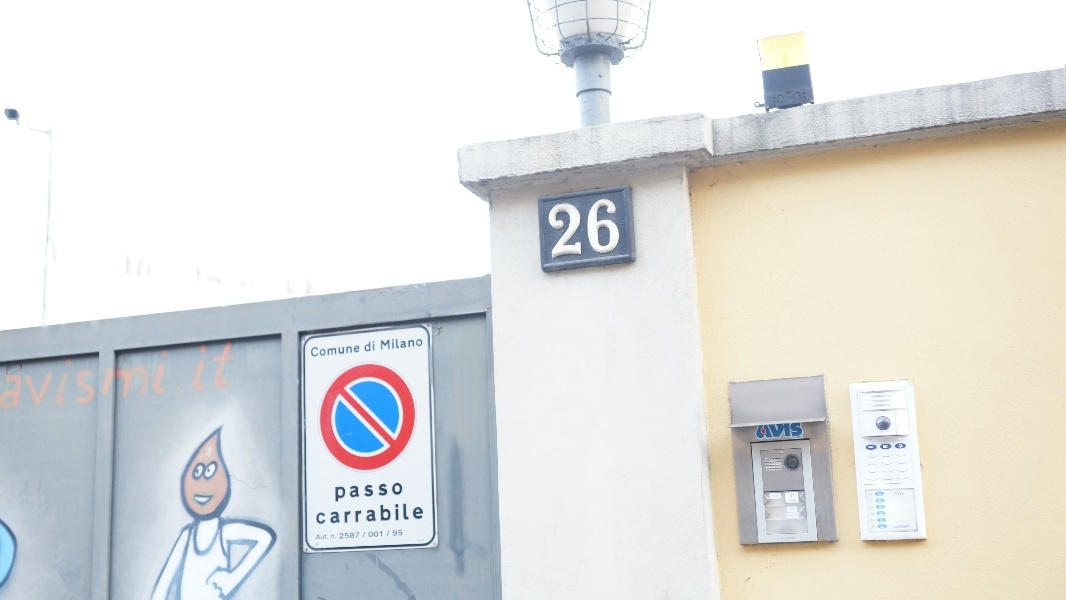text: (17, 338, 32, 413), (33, 338, 48, 413), (49, 338, 64, 413), (65, 338, 80, 413), (81, 338, 96, 413), (97, 338, 112, 413), (113, 338, 128, 413), (129, 338, 144, 413), (145, 338, 160, 413), (161, 338, 176, 413), (177, 338, 192, 413), (193, 338, 208, 413), (209, 338, 224, 413), (225, 338, 240, 413), (2, 338, 16, 413), (545, 197, 560, 263), (561, 197, 576, 263), (577, 197, 592, 263), (593, 197, 608, 263), (609, 197, 624, 263), (321, 502, 336, 527), (337, 502, 352, 527), (353, 502, 368, 527), (369, 502, 384, 527), (385, 502, 400, 527), (401, 502, 416, 527), (337, 482, 352, 505), (353, 482, 368, 505), (369, 482, 384, 505), (385, 482, 400, 505), (769, 422, 784, 442), (785, 422, 800, 442), (769, 91, 784, 109), (755, 422, 768, 442), (321, 344, 336, 359), (337, 344, 352, 359), (385, 338, 400, 352), (401, 338, 416, 352), (417, 502, 425, 527), (310, 344, 320, 359), (321, 530, 336, 540), (337, 530, 352, 540), (353, 530, 368, 540), (369, 530, 384, 540), (385, 530, 400, 540), (315, 502, 320, 527), (353, 344, 361, 359), (792, 90, 800, 104), (801, 90, 808, 104), (417, 338, 424, 352), (401, 482, 405, 505), (369, 341, 376, 353), (801, 422, 805, 442), (241, 338, 242, 413), (897, 524, 911, 529), (380, 338, 384, 352), (897, 491, 905, 497), (868, 493, 880, 497), (334, 482, 336, 505), (869, 500, 880, 504), (869, 506, 880, 510), (869, 513, 880, 517), (870, 519, 880, 523), (316, 530, 320, 540), (365, 341, 368, 353), (789, 499, 800, 502), (785, 537, 796, 540), (790, 508, 800, 511), (401, 530, 404, 540), (786, 515, 800, 517), (871, 526, 880, 529), (792, 436, 800, 439), (785, 91, 786, 109), (894, 491, 896, 497), (894, 524, 896, 529), (781, 537, 784, 540), (801, 436, 803, 439)
